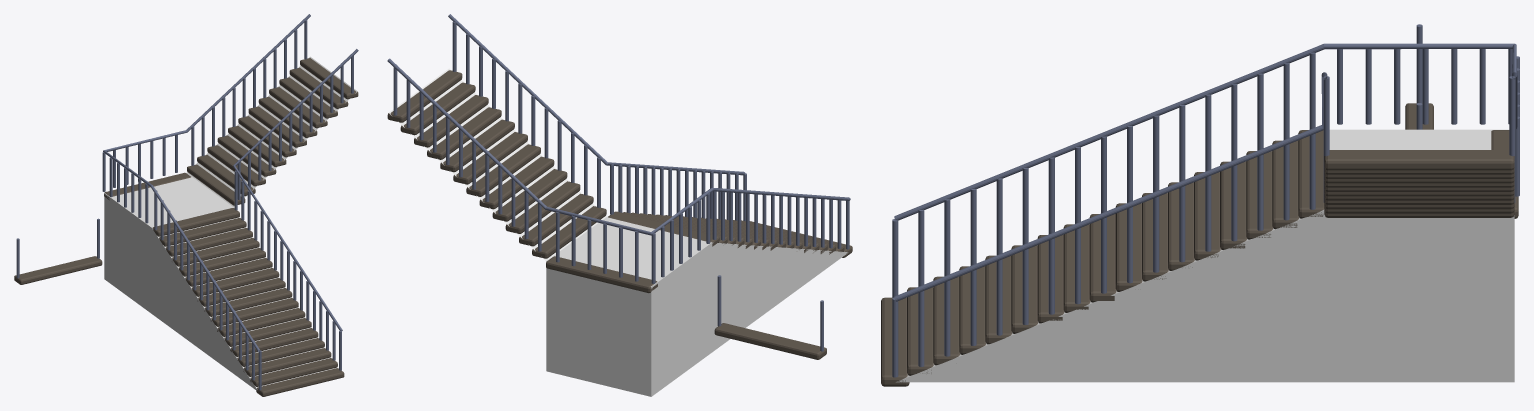
Rendered from escaleraPracticas.glb.
3 renders of one model, left to right at view 1: azimuth 30°, elevation 25°; view 2: azimuth 150°, elevation 25°; view 3: azimuth 270°, elevation 25°, orthographic. The views are drawn at different scales.
Parts seen in each view (by area): view 1: Cube.005_clone_18, Cube.001, Cube.005_clone_18.001; view 2: Cube.005_clone_18, Cube.001, Cube.005_clone_18.001; view 3: Cube.001, Cube.005_clone_18, Cube.005_clone_18.001.
Part boxes in pixels (bbox=[...]): Cube.005_clone_18: bbox=[102, 14, 358, 396]; Cube.001: bbox=[104, 56, 357, 390]; Cube.005_clone_18.001: bbox=[14, 218, 102, 284]; Cube.005_clone_18: bbox=[387, 14, 852, 293]; Cube.001: bbox=[389, 68, 848, 396]; Cube.005_clone_18.001: bbox=[714, 275, 826, 359]; Cube.001: bbox=[896, 129, 1514, 382]; Cube.005_clone_18: bbox=[881, 43, 1519, 386]; Cube.005_clone_18.001: bbox=[1405, 24, 1433, 129].
Bounding box in the file's own units: 7.74 × 5.05 × 6.72.
